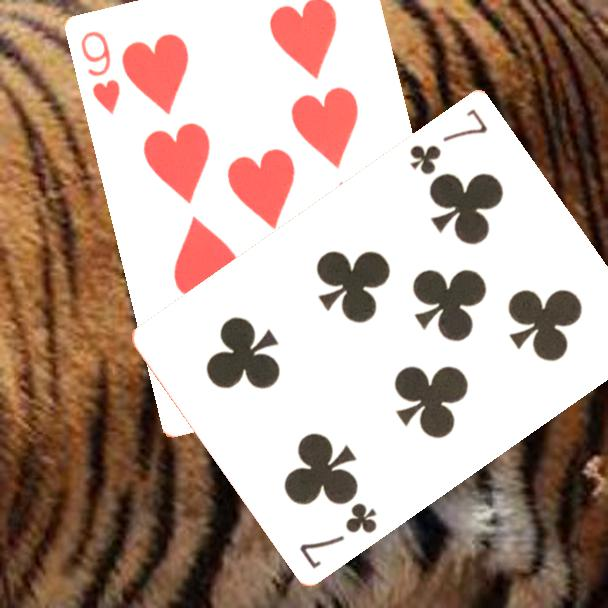c07: (406, 104, 491, 178), (296, 498, 381, 571)
h09: (76, 27, 123, 117)
